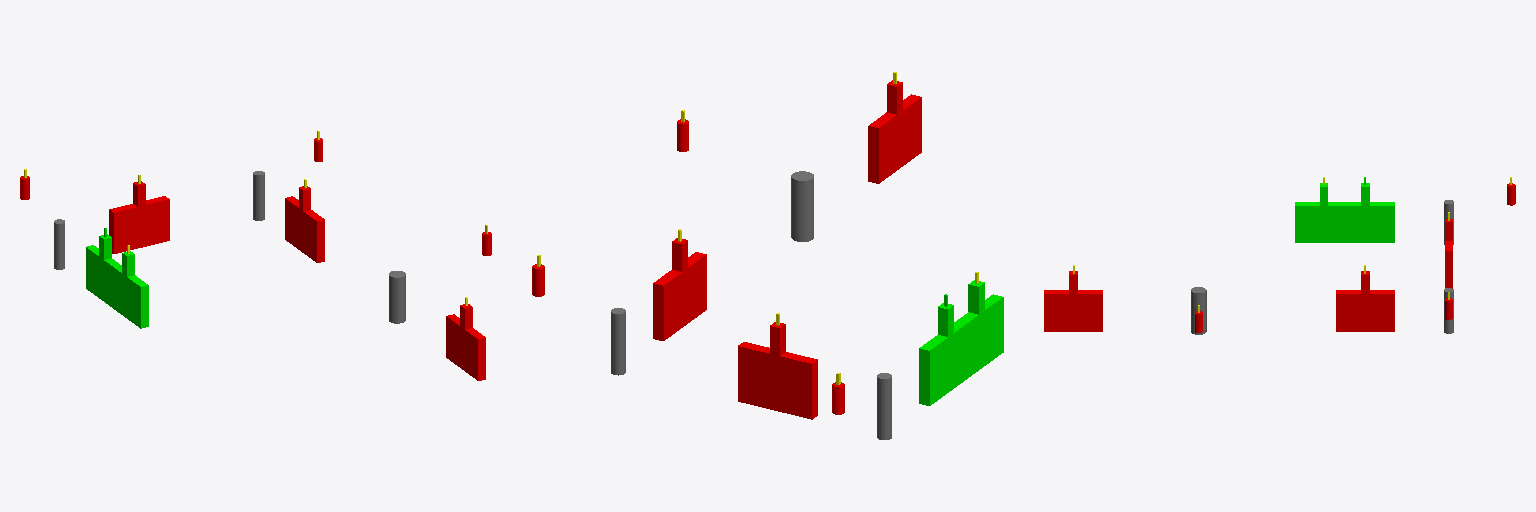
robot.urdf — lockbox_random2:
<?xml version="1.0"?>
<!-- created with Phobos 1.0.1 "Capricious Choutengan" -->
  <robot name="lockbox_random2">

    <link name="base_link">
    </link>

    <link name="goal">
      <visual name="visual_box_0_link_0.001">
        <origin xyz="0 0 0" rpy="0 0 0"/>
        <geometry>
          <box size="1.3976 0.1988 0.998"/>
        </geometry>
        <material name="green_translucent"/>
      </visual>
    </link>

    <link name="link_0_joint_0">
      <visual name="visual_box_0_link_0">
        <origin xyz="0 0 0" rpy="0 0 0"/>
        <geometry>
          <box size="1.399 0.199 0.999"/>
        </geometry>
        <material name="green"/>
      </visual>
      <collision name="collision_box_0_link_0">
        <origin xyz="0 0 0" rpy="0 0 0"/>
        <geometry>
          <box size="1.399 0.199 0.999"/>
        </geometry>
      </collision>
    </link>

    <link name="link_1_joint_0">
      <visual name="visual_mesh_3_link_1">
        <origin xyz="0 0 0" rpy="0 0 0"/>
        <geometry>
          <mesh filename="file://[local-path]/ba/puzzle-generator/puzzles/lockbox_random2/meshes/stl/slot_disc.stl" scale="1.0 1.0 1.0"/>
        </geometry>
        <material name="red"/>
      </visual>
      <collision concave="yes" name="collision_mesh_3_link_1">
        <origin xyz="0 0 0" rpy="0 0 0"/>
        <geometry>
          <mesh filename="file://[local-path]/ba/puzzle-generator/puzzles/lockbox_random2/meshes/stl/slot_disc.001.stl" scale="1.0 1.0 1.0"/>
        </geometry>
      </collision>
    </link>

    <link name="link_2_joint_0">
      <visual name="visual_box_7_link_2">
        <origin xyz="0 0 0" rpy="0 0 0"/>
        <geometry>
          <box size="1.399 0.199 0.999"/>
        </geometry>
        <material name="red"/>
      </visual>
      <collision name="collision_box_7_link_2">
        <origin xyz="0 0 0" rpy="0 0 0"/>
        <geometry>
          <box size="1.399 0.199 0.999"/>
        </geometry>
      </collision>
    </link>

    <link name="link_3_joint_0">
      <visual name="visual_mesh_10_link_3">
        <origin xyz="0 0 0" rpy="0 0 0"/>
        <geometry>
          <mesh filename="file://[local-path]/ba/puzzle-generator/puzzles/lockbox_random2/meshes/stl/slot_disc.002.stl" scale="1.0 1.0 1.0"/>
        </geometry>
        <material name="red"/>
      </visual>
      <collision concave="yes" name="collision_mesh_10_link_3">
        <origin xyz="0 0 0" rpy="0 0 0"/>
        <geometry>
          <mesh filename="file://[local-path]/ba/puzzle-generator/puzzles/lockbox_random2/meshes/stl/slot_disc.003.stl" scale="1.0 1.0 1.0"/>
        </geometry>
      </collision>
    </link>

    <link name="link_4_joint_0">
      <visual name="visual_box_14_link_4">
        <origin xyz="0 0 0" rpy="0 0 0"/>
        <geometry>
          <box size="1.399 0.199 0.999"/>
        </geometry>
        <material name="red"/>
      </visual>
      <collision name="collision_box_14_link_4">
        <origin xyz="0 0 0" rpy="0 0 0"/>
        <geometry>
          <box size="1.399 0.199 0.999"/>
        </geometry>
      </collision>
    </link>

    <link name="link_5_joint_0">
      <visual name="visual_mesh_17_link_5">
        <origin xyz="0 0 0" rpy="0 0 0"/>
        <geometry>
          <mesh filename="file://[local-path]/ba/puzzle-generator/puzzles/lockbox_random2/meshes/stl/slot_disc.004.stl" scale="1.0 1.0 1.0"/>
        </geometry>
        <material name="red"/>
      </visual>
      <collision concave="yes" name="collision_mesh_17_link_5">
        <origin xyz="0 0 0" rpy="0 0 0"/>
        <geometry>
          <mesh filename="file://[local-path]/ba/puzzle-generator/puzzles/lockbox_random2/meshes/stl/slot_disc.005.stl" scale="1.0 1.0 1.0"/>
        </geometry>
      </collision>
    </link>

    <link name="link_6_joint_0">
      <visual name="visual_box_21_link_6">
        <origin xyz="0 0 0" rpy="0 0 0"/>
        <geometry>
          <box size="1.399 0.199 0.999"/>
        </geometry>
        <material name="red"/>
      </visual>
      <collision name="collision_box_21_link_6">
        <origin xyz="0 0 0" rpy="0 0 0"/>
        <geometry>
          <box size="1.399 0.199 0.999"/>
        </geometry>
      </collision>
    </link>

    <link name="link_fixed_11_hinge">
      <visual name="visual_cylinder_fixed_11_hinge">
        <origin xyz="0 0 0" rpy="0 0 0"/>
        <geometry>
          <cylinder radius="0.1245" length="1.099"/>
        </geometry>
        <material name="gray"/>
      </visual>
    </link>

    <link name="link_fixed_12_handle_shaft">
      <visual name="visual_cylinder_fixed_12_handle_shaft">
        <origin xyz="0 0 0" rpy="0 0 0"/>
        <geometry>
          <cylinder radius="0.0995" length="0.499"/>
        </geometry>
        <material name="red"/>
      </visual>
      <collision name="collision_cylinder_fixed_12_handle_shaft">
        <origin xyz="0 0 0" rpy="0 0 0"/>
        <geometry>
          <cylinder radius="0.0995" length="0.499"/>
        </geometry>
      </collision>
    </link>

    <link name="link_fixed_13_handle_knob">
      <visual name="visual_box_fixed_13_handle_knob">
        <origin xyz="0 0 0" rpy="0 0 0"/>
        <geometry>
          <box size="0.049 0.049 0.199"/>
        </geometry>
        <material name="yellow"/>
      </visual>
      <collision name="collision_box_fixed_13_handle_knob">
        <origin xyz="0 0 0" rpy="0 0 0"/>
        <geometry>
          <box size="0.049 0.049 0.199"/>
        </geometry>
      </collision>
    </link>

    <link name="link_fixed_15_handle_shaft">
      <visual name="visual_box_fixed_15_handle_shaft">
        <origin xyz="0 0 0" rpy="0 0 0"/>
        <geometry>
          <box size="0.199 0.199 0.499"/>
        </geometry>
        <material name="red"/>
      </visual>
      <collision name="collision_box_fixed_15_handle_shaft">
        <origin xyz="0 0 0" rpy="0 0 0"/>
        <geometry>
          <box size="0.199 0.199 0.499"/>
        </geometry>
      </collision>
    </link>

    <link name="link_fixed_16_handle_knob">
      <visual name="visual_box_fixed_16_handle_knob">
        <origin xyz="0 0 0" rpy="0 0 0"/>
        <geometry>
          <box size="0.049 0.049 0.199"/>
        </geometry>
        <material name="yellow"/>
      </visual>
      <collision name="collision_box_fixed_16_handle_knob">
        <origin xyz="0 0 0" rpy="0 0 0"/>
        <geometry>
          <box size="0.049 0.049 0.199"/>
        </geometry>
      </collision>
    </link>

    <link name="link_fixed_18_hinge">
      <visual name="visual_cylinder_fixed_18_hinge">
        <origin xyz="0 0 0" rpy="0 0 0"/>
        <geometry>
          <cylinder radius="0.187" length="1.099"/>
        </geometry>
        <material name="gray"/>
      </visual>
    </link>

    <link name="link_fixed_19_handle_shaft">
      <visual name="visual_cylinder_fixed_19_handle_shaft">
        <origin xyz="0 0 0" rpy="0 0 0"/>
        <geometry>
          <cylinder radius="0.0995" length="0.499"/>
        </geometry>
        <material name="red"/>
      </visual>
      <collision name="collision_cylinder_fixed_19_handle_shaft">
        <origin xyz="0 0 0" rpy="0 0 0"/>
        <geometry>
          <cylinder radius="0.0995" length="0.499"/>
        </geometry>
      </collision>
    </link>

    <link name="link_fixed_1_handle_shaft">
      <visual name="visual_box_fixed_1_handle_shaft">
        <origin xyz="0 0 0" rpy="0 0 0"/>
        <geometry>
          <box size="0.199 0.199 0.499"/>
        </geometry>
        <material name="green"/>
      </visual>
      <collision name="collision_box_fixed_1_handle_shaft">
        <origin xyz="0 0 0" rpy="0 0 0"/>
        <geometry>
          <box size="0.199 0.199 0.499"/>
        </geometry>
      </collision>
    </link>

    <link name="link_fixed_1_handle_shaft.001">
      <visual name="visual_box_fixed_1_handle_shaft.001">
        <origin xyz="0 0 0" rpy="0 0 0"/>
        <geometry>
          <box size="0.1988 0.1988 0.4985"/>
        </geometry>
        <material name="green_translucent"/>
      </visual>
    </link>

    <link name="link_fixed_20_handle_knob">
      <visual name="visual_box_fixed_20_handle_knob">
        <origin xyz="0 0 0" rpy="0 0 0"/>
        <geometry>
          <box size="0.049 0.049 0.199"/>
        </geometry>
        <material name="yellow"/>
      </visual>
      <collision name="collision_box_fixed_20_handle_knob">
        <origin xyz="0 0 0" rpy="0 0 0"/>
        <geometry>
          <box size="0.049 0.049 0.199"/>
        </geometry>
      </collision>
    </link>

    <link name="link_fixed_22_handle_shaft">
      <visual name="visual_box_fixed_22_handle_shaft">
        <origin xyz="0 0 0" rpy="0 0 0"/>
        <geometry>
          <box size="0.199 0.199 0.499"/>
        </geometry>
        <material name="red"/>
      </visual>
      <collision name="collision_box_fixed_22_handle_shaft">
        <origin xyz="0 0 0" rpy="0 0 0"/>
        <geometry>
          <box size="0.199 0.199 0.499"/>
        </geometry>
      </collision>
    </link>

    <link name="link_fixed_23_handle_knob">
      <visual name="visual_box_fixed_23_handle_knob">
        <origin xyz="0 0 0" rpy="0 0 0"/>
        <geometry>
          <box size="0.049 0.049 0.199"/>
        </geometry>
        <material name="yellow"/>
      </visual>
      <collision name="collision_box_fixed_23_handle_knob">
        <origin xyz="0 0 0" rpy="0 0 0"/>
        <geometry>
          <box size="0.049 0.049 0.199"/>
        </geometry>
      </collision>
    </link>

    <link name="link_fixed_2_handle_knob">
      <visual name="visual_box_fixed_2_handle_knob">
        <origin xyz="0 0 0" rpy="0 0 0"/>
        <geometry>
          <box size="0.049 0.049 0.199"/>
        </geometry>
        <material name="yellow"/>
      </visual>
      <collision name="collision_box_fixed_2_handle_knob">
        <origin xyz="0 0 0" rpy="0 0 0"/>
        <geometry>
          <box size="0.049 0.049 0.199"/>
        </geometry>
      </collision>
    </link>

    <link name="link_fixed_2_handle_knob.001">
      <visual name="visual_box_fixed_2_handle_knob.001">
        <origin xyz="0 0 0" rpy="0 0 0"/>
        <geometry>
          <box size="0.04895 0.04895 0.1988"/>
        </geometry>
        <material name="green_translucent"/>
      </visual>
    </link>

    <link name="link_fixed_4_hinge">
      <visual name="visual_cylinder_fixed_4_hinge">
        <origin xyz="0 0 0" rpy="0 0 0"/>
        <geometry>
          <cylinder radius="0.1245" length="1.099"/>
        </geometry>
        <material name="gray"/>
      </visual>
    </link>

    <link name="link_fixed_5_handle_shaft">
      <visual name="visual_cylinder_fixed_5_handle_shaft">
        <origin xyz="0 0 0" rpy="0 0 0"/>
        <geometry>
          <cylinder radius="0.0995" length="0.499"/>
        </geometry>
        <material name="red"/>
      </visual>
      <collision name="collision_cylinder_fixed_5_handle_shaft">
        <origin xyz="0 0 0" rpy="0 0 0"/>
        <geometry>
          <cylinder radius="0.0995" length="0.499"/>
        </geometry>
      </collision>
    </link>

    <link name="link_fixed_6_handle_knob">
      <visual name="visual_box_fixed_6_handle_knob">
        <origin xyz="0 0 0" rpy="0 0 0"/>
        <geometry>
          <box size="0.049 0.049 0.199"/>
        </geometry>
        <material name="yellow"/>
      </visual>
      <collision name="collision_box_fixed_6_handle_knob">
        <origin xyz="0 0 0" rpy="0 0 0"/>
        <geometry>
          <box size="0.049 0.049 0.199"/>
        </geometry>
      </collision>
    </link>

    <link name="link_fixed_8_handle_shaft">
      <visual name="visual_box_fixed_8_handle_shaft">
        <origin xyz="0 0 0" rpy="0 0 0"/>
        <geometry>
          <box size="0.199 0.199 0.499"/>
        </geometry>
        <material name="red"/>
      </visual>
      <collision name="collision_box_fixed_8_handle_shaft">
        <origin xyz="0 0 0" rpy="0 0 0"/>
        <geometry>
          <box size="0.199 0.199 0.499"/>
        </geometry>
      </collision>
    </link>

    <link name="link_fixed_9_handle_knob">
      <visual name="visual_box_fixed_9_handle_knob">
        <origin xyz="0 0 0" rpy="0 0 0"/>
        <geometry>
          <box size="0.049 0.049 0.199"/>
        </geometry>
        <material name="yellow"/>
      </visual>
      <collision name="collision_box_fixed_9_handle_knob">
        <origin xyz="0 0 0" rpy="0 0 0"/>
        <geometry>
          <box size="0.049 0.049 0.199"/>
        </geometry>
      </collision>
    </link>

    <joint name="goal" type="fixed">
      <origin xyz="0 1.0 0.5" rpy="0 0 1.5708"/>
      <parent link="base_link"/>
      <child link="goal"/>
      <limit effort="0" velocity="0"/>
    </joint>

    <joint name="link_0_joint_0" type="prismatic">
      <origin xyz="0 0 0.5" rpy="0 0 1.5708"/>
      <parent link="base_link"/>
      <child link="link_0_joint_0"/>
      <axis xyz="1.0 0 0"/>
      <limit lower="0" upper="1.0" effort="0" velocity="0"/>
    </joint>

    <joint name="link_1_joint_0" type="revolute">
      <origin xyz="0 3.0 0.5" rpy="0 0 0"/>
      <parent link="base_link"/>
      <child link="link_1_joint_0"/>
      <axis xyz="0 0 1.0"/>
      <limit lower="-3.14159" upper="3.14159" effort="0" velocity="0"/>
    </joint>

    <joint name="link_2_joint_0" type="prismatic">
      <origin xyz="2.0 3.0 0.5" rpy="0 0 0"/>
      <parent link="base_link"/>
      <child link="link_2_joint_0"/>
      <axis xyz="1.0 0 0"/>
      <limit lower="0" upper="1.0" effort="0" velocity="0"/>
    </joint>

    <joint name="link_3_joint_0" type="revolute">
      <origin xyz="5.0 3.0 0.5" rpy="0 0 -1.5708"/>
      <parent link="base_link"/>
      <child link="link_3_joint_0"/>
      <axis xyz="0 0 1.0"/>
      <limit lower="-3.14159" upper="3.14159" effort="0" velocity="0"/>
    </joint>

    <joint name="link_4_joint_0" type="prismatic">
      <origin xyz="5.0 1.0 0.5" rpy="0 0 -1.5708"/>
      <parent link="base_link"/>
      <child link="link_4_joint_0"/>
      <axis xyz="1.0 0 0"/>
      <limit lower="0" upper="1.0" effort="0" velocity="0"/>
    </joint>

    <joint name="link_5_joint_0" type="revolute">
      <origin xyz="5.0 -3.0 0.5" rpy="0 0 -1.5708"/>
      <parent link="base_link"/>
      <child link="link_5_joint_0"/>
      <axis xyz="0 0 1.0"/>
      <limit lower="-3.14159" upper="3.14159" effort="0" velocity="0"/>
    </joint>

    <joint name="link_6_joint_0" type="prismatic">
      <origin xyz="5.0 -6.0 0.5" rpy="0 0 -1.5708"/>
      <parent link="base_link"/>
      <child link="link_6_joint_0"/>
      <axis xyz="1.0 0 0"/>
      <limit lower="0" upper="1.0" effort="0" velocity="0"/>
    </joint>

    <joint name="link_fixed_11_hinge" type="fixed">
      <origin xyz="0 0 0" rpy="0 0 0"/>
      <parent link="link_3_joint_0"/>
      <child link="link_fixed_11_hinge"/>
    </joint>

    <joint name="link_fixed_12_handle_shaft" type="fixed">
      <origin xyz="0 1.5 0.75" rpy="0 0 0"/>
      <parent link="link_3_joint_0"/>
      <child link="link_fixed_12_handle_shaft"/>
    </joint>

    <joint name="link_fixed_13_handle_knob" type="fixed">
      <origin xyz="0 0 0.35" rpy="0 0 0"/>
      <parent link="link_fixed_12_handle_shaft"/>
      <child link="link_fixed_13_handle_knob"/>
    </joint>

    <joint name="link_fixed_15_handle_shaft" type="fixed">
      <origin xyz="0 0 0.75" rpy="0 0 0"/>
      <parent link="link_4_joint_0"/>
      <child link="link_fixed_15_handle_shaft"/>
    </joint>

    <joint name="link_fixed_16_handle_knob" type="fixed">
      <origin xyz="0 0 0.35" rpy="0 0 0"/>
      <parent link="link_fixed_15_handle_shaft"/>
      <child link="link_fixed_16_handle_knob"/>
    </joint>

    <joint name="link_fixed_18_hinge" type="fixed">
      <origin xyz="0 0 0" rpy="0 0 0"/>
      <parent link="link_5_joint_0"/>
      <child link="link_fixed_18_hinge"/>
    </joint>

    <joint name="link_fixed_19_handle_shaft" type="fixed">
      <origin xyz="0 2.25 0.75" rpy="0 0 0"/>
      <parent link="link_5_joint_0"/>
      <child link="link_fixed_19_handle_shaft"/>
    </joint>

    <joint name="link_fixed_1_handle_shaft" type="fixed">
      <origin xyz="0 0 0.75" rpy="0 0 0"/>
      <parent link="link_0_joint_0"/>
      <child link="link_fixed_1_handle_shaft"/>
    </joint>

    <joint name="link_fixed_1_handle_shaft.001" type="fixed">
      <origin xyz="0 0 0.74925" rpy="0 0 0"/>
      <parent link="goal"/>
      <child link="link_fixed_1_handle_shaft.001"/>
    </joint>

    <joint name="link_fixed_20_handle_knob" type="fixed">
      <origin xyz="0 0 0.35" rpy="0 0 0"/>
      <parent link="link_fixed_19_handle_shaft"/>
      <child link="link_fixed_20_handle_knob"/>
    </joint>

    <joint name="link_fixed_22_handle_shaft" type="fixed">
      <origin xyz="0 0 0.75" rpy="0 0 0"/>
      <parent link="link_6_joint_0"/>
      <child link="link_fixed_22_handle_shaft"/>
    </joint>

    <joint name="link_fixed_23_handle_knob" type="fixed">
      <origin xyz="0 0 0.35" rpy="0 0 0"/>
      <parent link="link_fixed_22_handle_shaft"/>
      <child link="link_fixed_23_handle_knob"/>
    </joint>

    <joint name="link_fixed_2_handle_knob" type="fixed">
      <origin xyz="0 0 0.35" rpy="0 0 0"/>
      <parent link="link_fixed_1_handle_shaft"/>
      <child link="link_fixed_2_handle_knob"/>
    </joint>

    <joint name="link_fixed_2_handle_knob.001" type="fixed">
      <origin xyz="0 0 0.34965" rpy="0 0 0"/>
      <parent link="link_fixed_1_handle_shaft.001"/>
      <child link="link_fixed_2_handle_knob.001"/>
    </joint>

    <joint name="link_fixed_4_hinge" type="fixed">
      <origin xyz="0 0 0" rpy="0 0 0"/>
      <parent link="link_1_joint_0"/>
      <child link="link_fixed_4_hinge"/>
    </joint>

    <joint name="link_fixed_5_handle_shaft" type="fixed">
      <origin xyz="0 1.5 0.75" rpy="0 0 0"/>
      <parent link="link_1_joint_0"/>
      <child link="link_fixed_5_handle_shaft"/>
    </joint>

    <joint name="link_fixed_6_handle_knob" type="fixed">
      <origin xyz="0 0 0.35" rpy="0 0 0"/>
      <parent link="link_fixed_5_handle_shaft"/>
      <child link="link_fixed_6_handle_knob"/>
    </joint>

    <joint name="link_fixed_8_handle_shaft" type="fixed">
      <origin xyz="0 0 0.75" rpy="0 0 0"/>
      <parent link="link_2_joint_0"/>
      <child link="link_fixed_8_handle_shaft"/>
    </joint>

    <joint name="link_fixed_9_handle_knob" type="fixed">
      <origin xyz="0 0 0.35" rpy="0 0 0"/>
      <parent link="link_fixed_8_handle_shaft"/>
      <child link="link_fixed_9_handle_knob"/>
    </joint>

    <material name="gray">
      <color rgba="0.5 0.5 0.5 1.0"/>
    </material>

    <material name="green">
      <color rgba="0 1.0 0 1.0"/>
    </material>

    <material name="green_translucent">
      <color rgba="0 1.0 0 0.25"/>
    </material>

    <material name="red">
      <color rgba="1.0 0 0 1.0"/>
    </material>

    <material name="yellow">
      <color rgba="1.0 1.0 0 1.0"/>
    </material>

  </robot>

--- What the picture shows (computed from the rendered views, not written in the file) ---
The picture shows the robot from 3 angles, left to right: view 1: azimuth 30°, elevation 25°; view 2: azimuth 150°, elevation 25°; view 3: azimuth 270°, elevation 25°; orthographic projection.
Robot: lockbox_random2 — 28 links, 27 joints (3 revolute, 4 prismatic, 20 fixed); root link base_link; default pose: every joint at zero.
Visible links, largest first — view 1: link_2_joint_0, link_4_joint_0, link_6_joint_0, link_0_joint_0, goal, link_fixed_18_hinge, link_fixed_11_hinge, link_fixed_4_hinge; view 2: link_2_joint_0, link_6_joint_0, link_4_joint_0, link_0_joint_0, goal, link_fixed_18_hinge, link_fixed_11_hinge, link_fixed_4_hinge; view 3: link_4_joint_0, link_6_joint_0, link_0_joint_0, goal, link_fixed_18_hinge.
Link boxes in pixels (x1=…): link_2_joint_0: x1=109, y1=196, x2=169, y2=253; link_4_joint_0: x1=285, y1=196, x2=324, y2=262; link_6_joint_0: x1=446, y1=314, x2=485, y2=380; link_0_joint_0: x1=109, y1=262, x2=148, y2=328; goal: x1=86, y1=245, x2=115, y2=304; link_fixed_18_hinge: x1=389, y1=271, x2=405, y2=323; link_fixed_11_hinge: x1=253, y1=171, x2=264, y2=220; link_fixed_4_hinge: x1=54, y1=219, x2=64, y2=269; link_2_joint_0: x1=738, y1=342, x2=817, y2=419; link_6_joint_0: x1=868, y1=94, x2=921, y2=183; link_4_joint_0: x1=653, y1=252, x2=706, y2=340; link_0_joint_0: x1=954, y1=294, x2=1003, y2=382; goal: x1=919, y1=327, x2=960, y2=405; link_fixed_18_hinge: x1=791, y1=171, x2=813, y2=241; link_fixed_11_hinge: x1=611, y1=308, x2=625, y2=375; link_fixed_4_hinge: x1=877, y1=373, x2=891, y2=439; link_4_joint_0: x1=1336, y1=290, x2=1394, y2=331; link_6_joint_0: x1=1044, y1=290, x2=1102, y2=331; link_0_joint_0: x1=1295, y1=202, x2=1352, y2=242; goal: x1=1353, y1=202, x2=1394, y2=242; link_fixed_18_hinge: x1=1191, y1=287, x2=1206, y2=334.
Size in the robot's own frame: 7.47 by 11.3 by 1.75 metres.
Geometry: only primitive shapes (box / cylinder / sphere) drawn; not drawn: 3 mesh visuals (reference in a form the renderer does not follow).